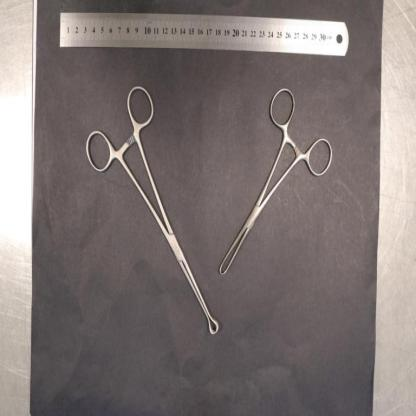8 Babcock Tissue Forceps: (83, 84, 220, 336)
Allis Tissue Forceps: (219, 86, 334, 276)
